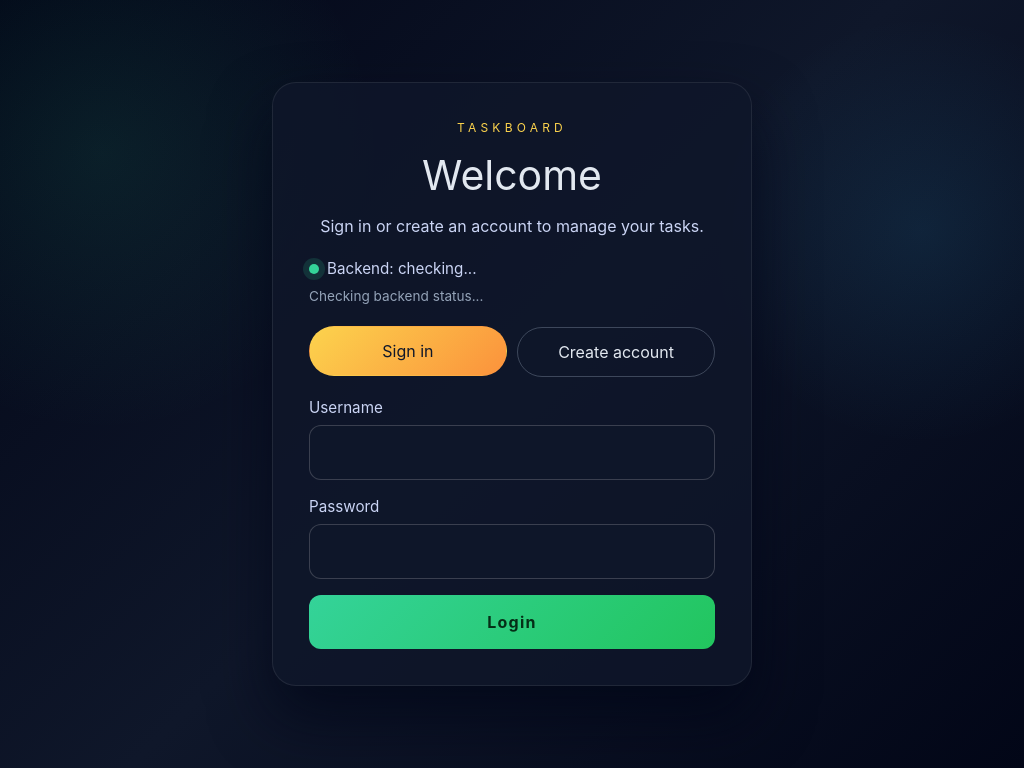
it: Auth Landing Page › shows validation error when login fails
In the field labelled "Username": (512, 452) left=309, top=425, right=715, bottom=480, type "bob"
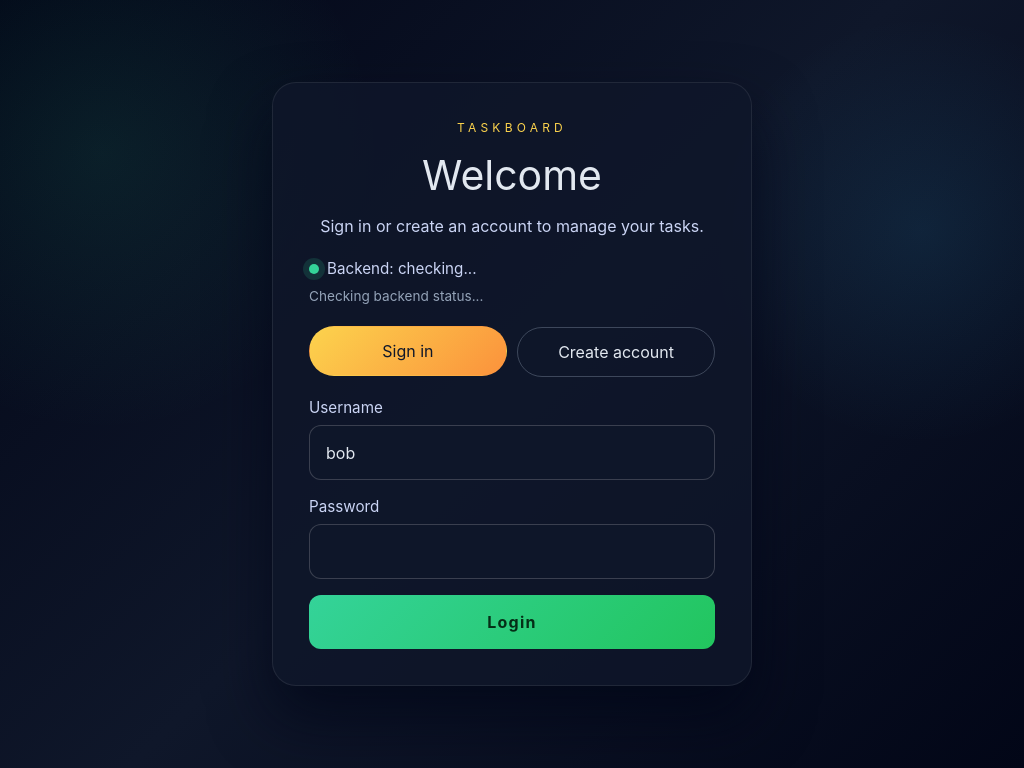
In the password field labelled "Password": (512, 552) left=309, top=524, right=715, bottom=579, type "pw"
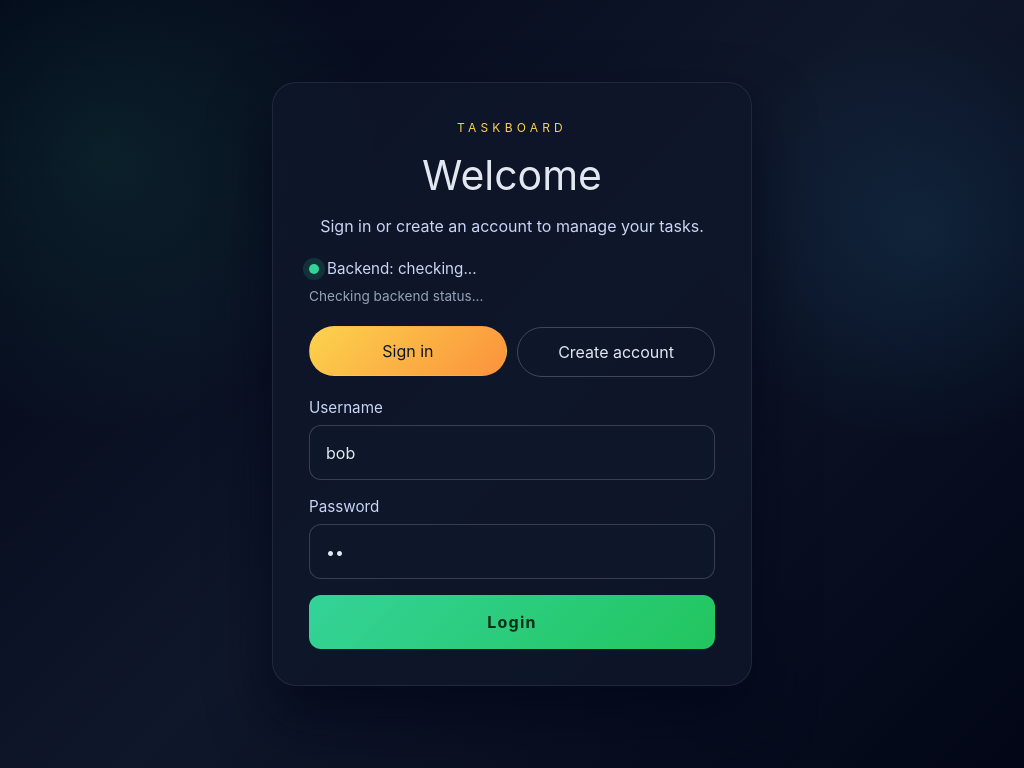
Click the button "Login": (512, 622) left=309, top=595, right=715, bottom=650
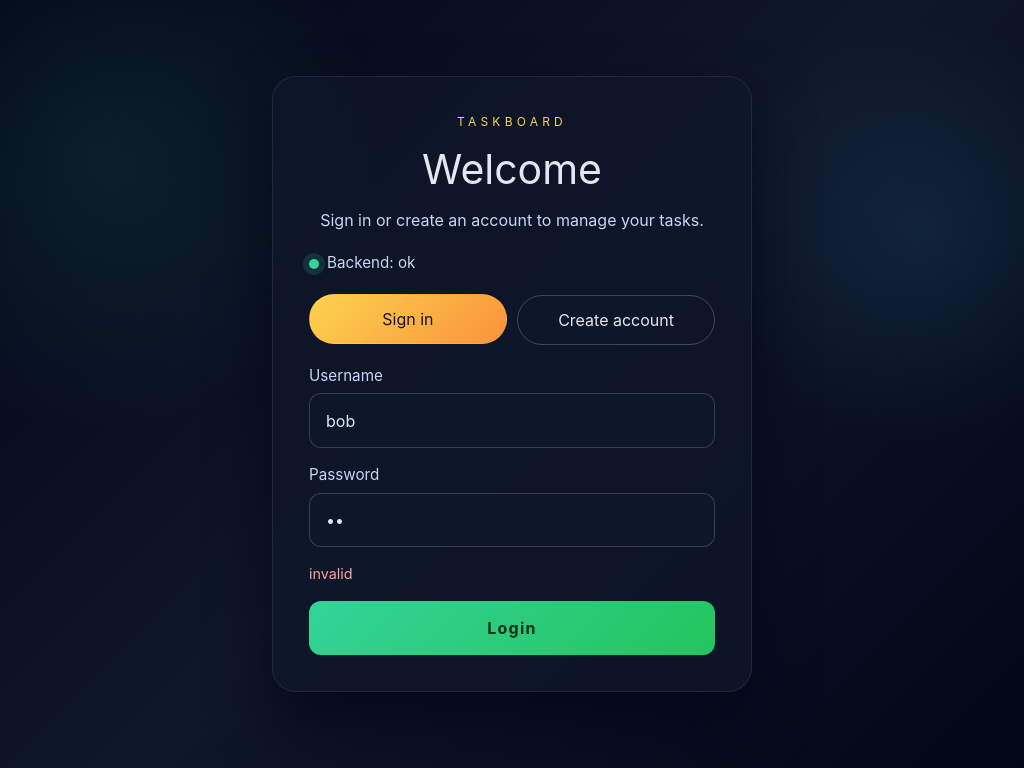
Now the message reads "invalid", box left=309, top=565, right=353, bottom=582
